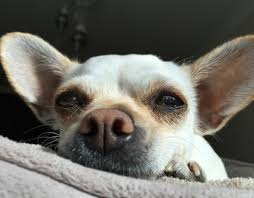chihuahua: (1, 26, 254, 177)
